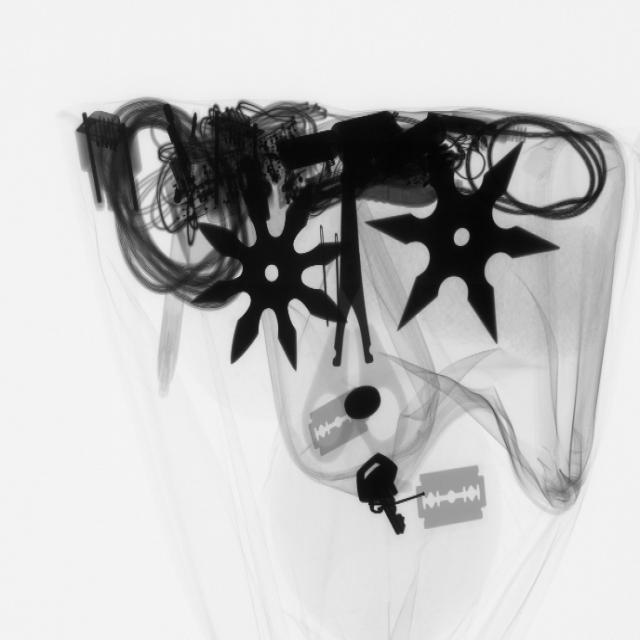BLADE: (413, 458, 497, 540), (306, 392, 371, 461)
SHURIKEN: (372, 139, 554, 347), (199, 165, 347, 378)
